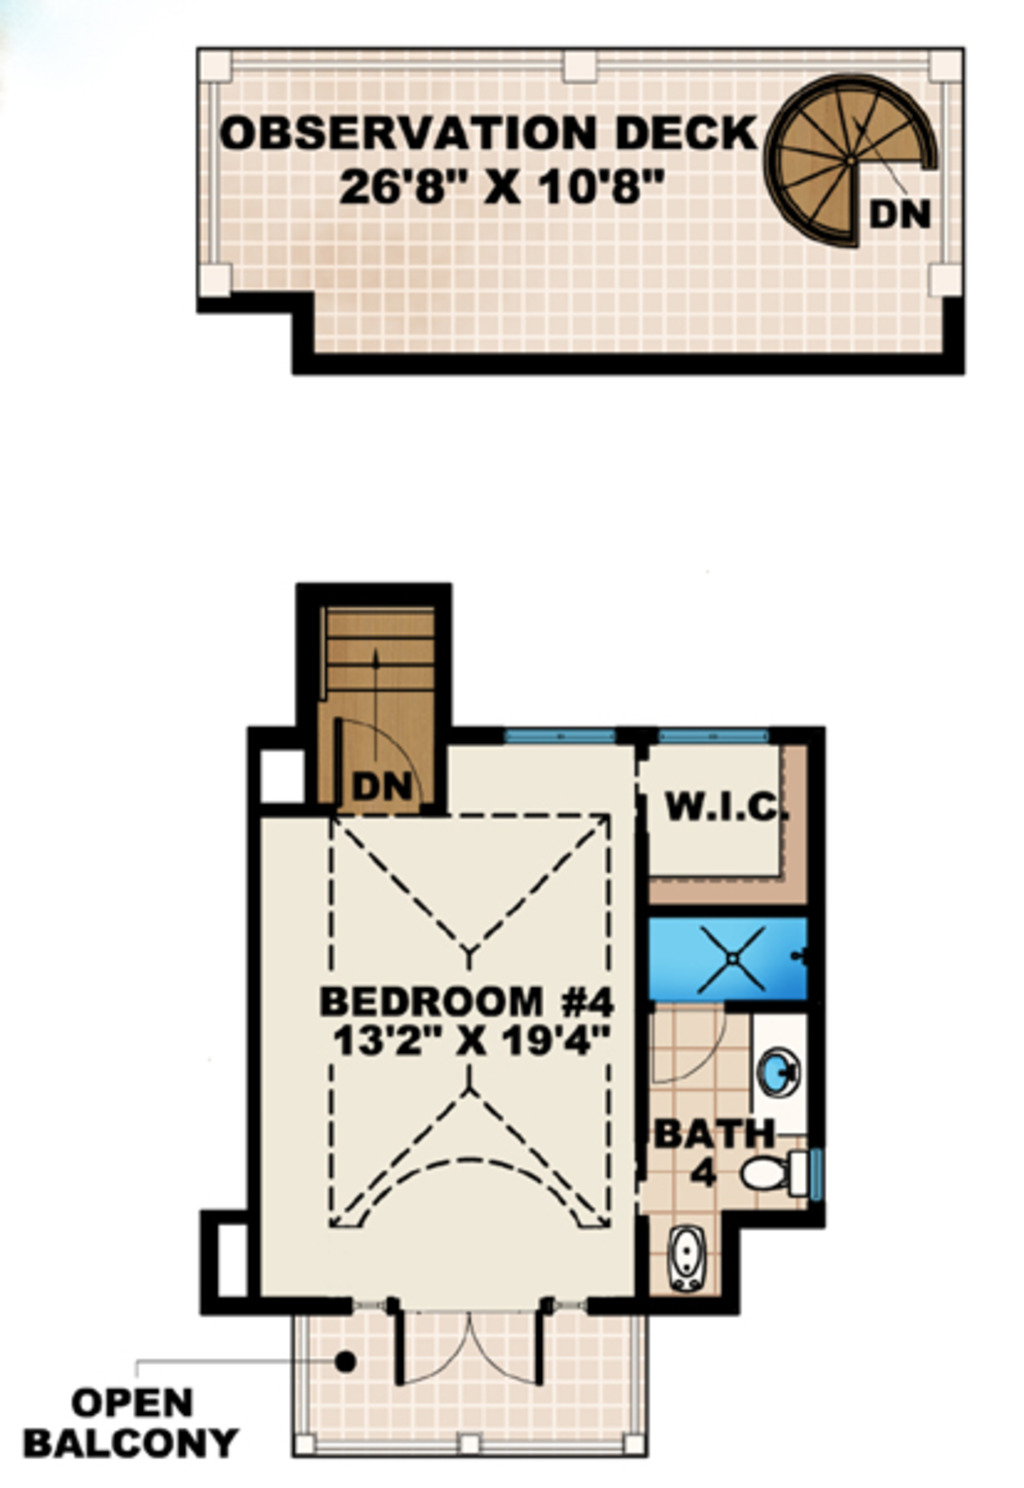door: (390, 1305, 549, 1391), (649, 1005, 730, 1089)
large_sink: (731, 1145, 815, 1202)
small_sink: (750, 1010, 812, 1131)
stairs: (755, 77, 941, 254), (306, 602, 446, 820)
windows: (491, 720, 623, 751), (656, 720, 769, 753)
